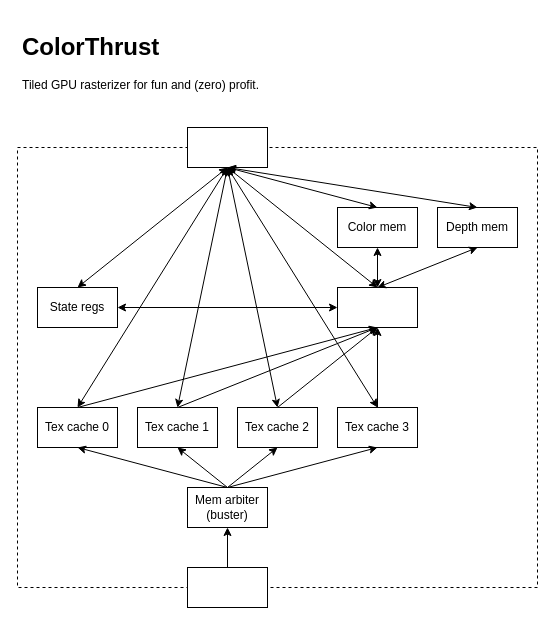
Image size: 555x625. Some labels were removed from this diagram. Here are the shapes that lost their labels. From the top down, the centre of each, then its label:
point 227,147: IO interface
point 377,307: Pixel pipe
point 227,587: Mem interface
